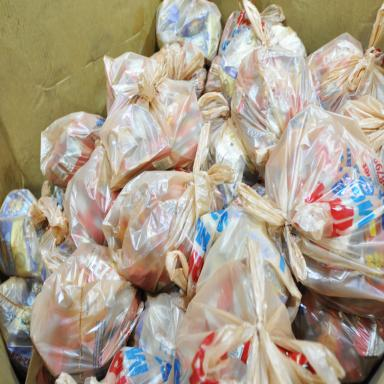plasticbag: (269, 105, 384, 288), (180, 258, 324, 384), (26, 254, 133, 363), (109, 55, 201, 163), (105, 171, 203, 270), (234, 39, 306, 152), (4, 183, 75, 274), (309, 31, 384, 108), (26, 114, 110, 173), (154, 0, 208, 46)
